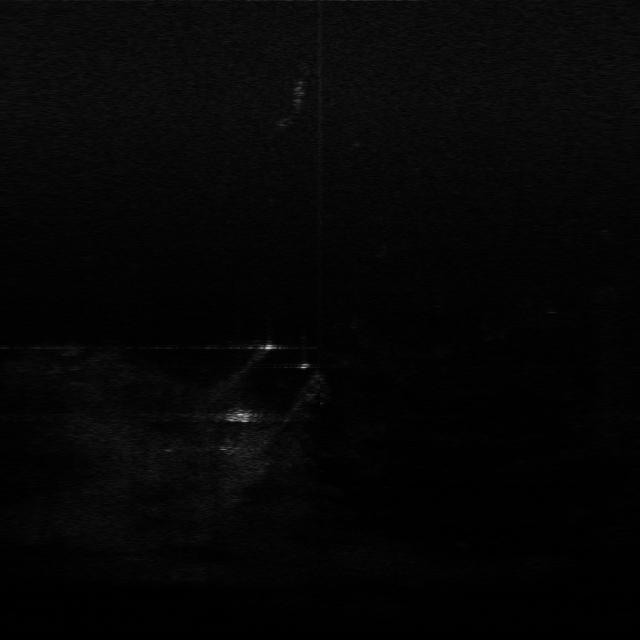rov: (218, 405, 258, 426)
